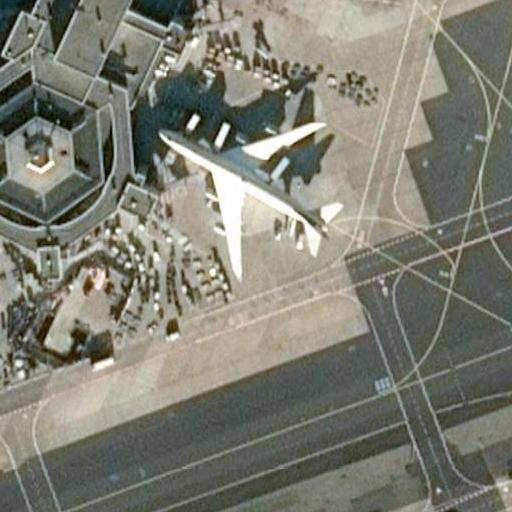Aircraft: (155, 109, 338, 278)
